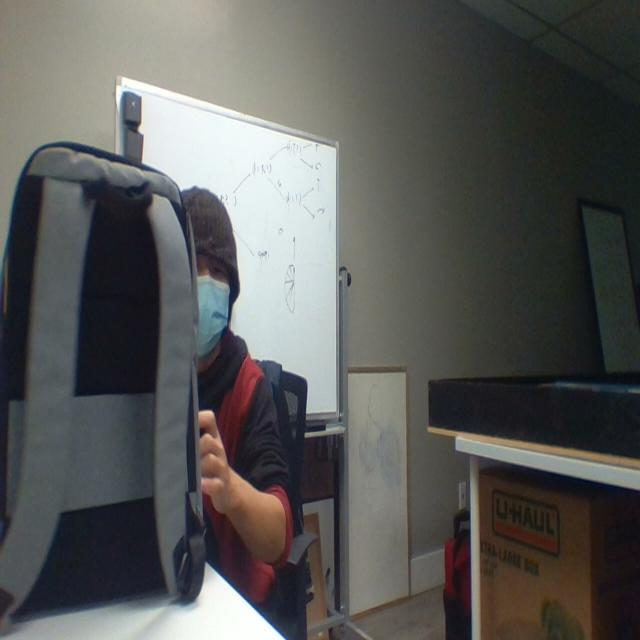Backpacks: (0, 151, 221, 607)
